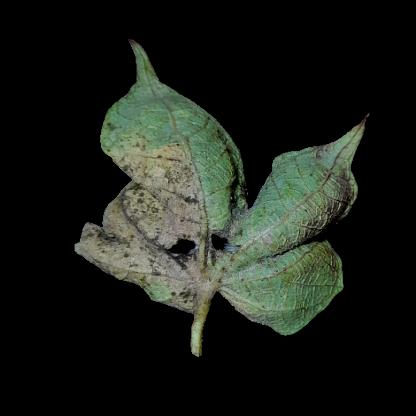curl_stage2: (259, 182, 309, 248), (250, 242, 330, 282), (118, 99, 194, 135), (304, 139, 357, 185), (265, 281, 321, 321), (199, 147, 239, 197), (219, 257, 249, 295)
sooty: (117, 181, 211, 294), (116, 142, 186, 172)
